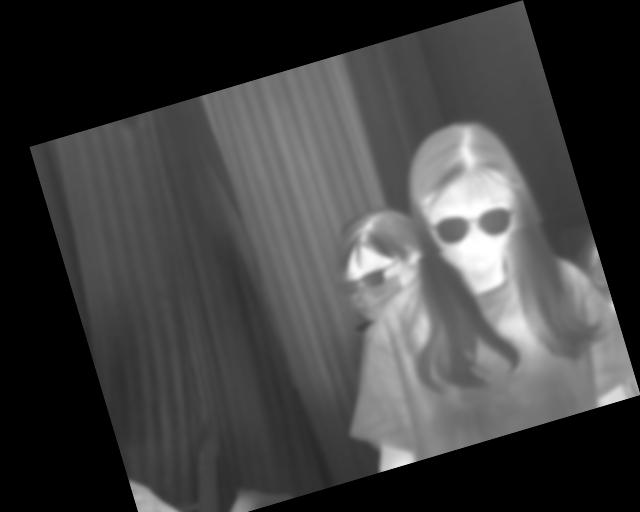face: (399, 111, 543, 288), (320, 201, 433, 330)
